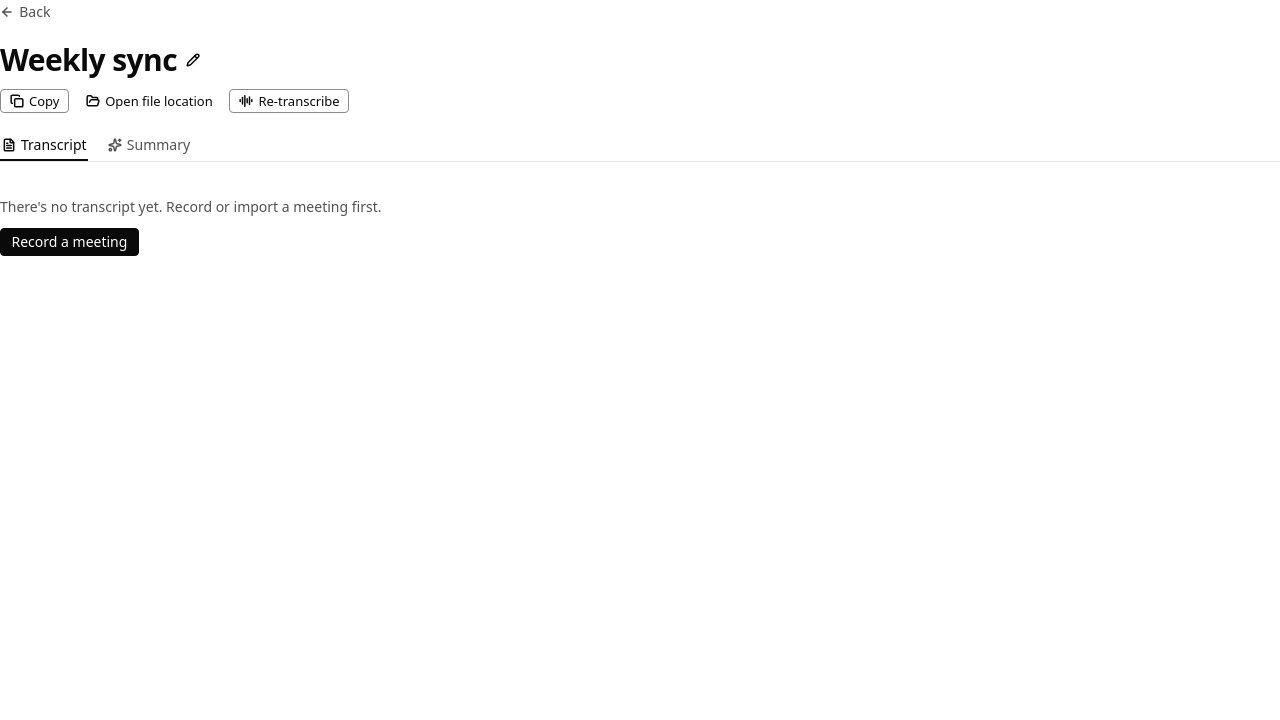
Test: SessionRoute › rename › stays open and says why when a re-transcription blocks the rename
Expected: the heading "Weekly sync" is shown, [0, 42, 177, 78]
Step 1. Click the button with test id "BtnSessionRename" → (193, 60), box [180, 48, 205, 72]
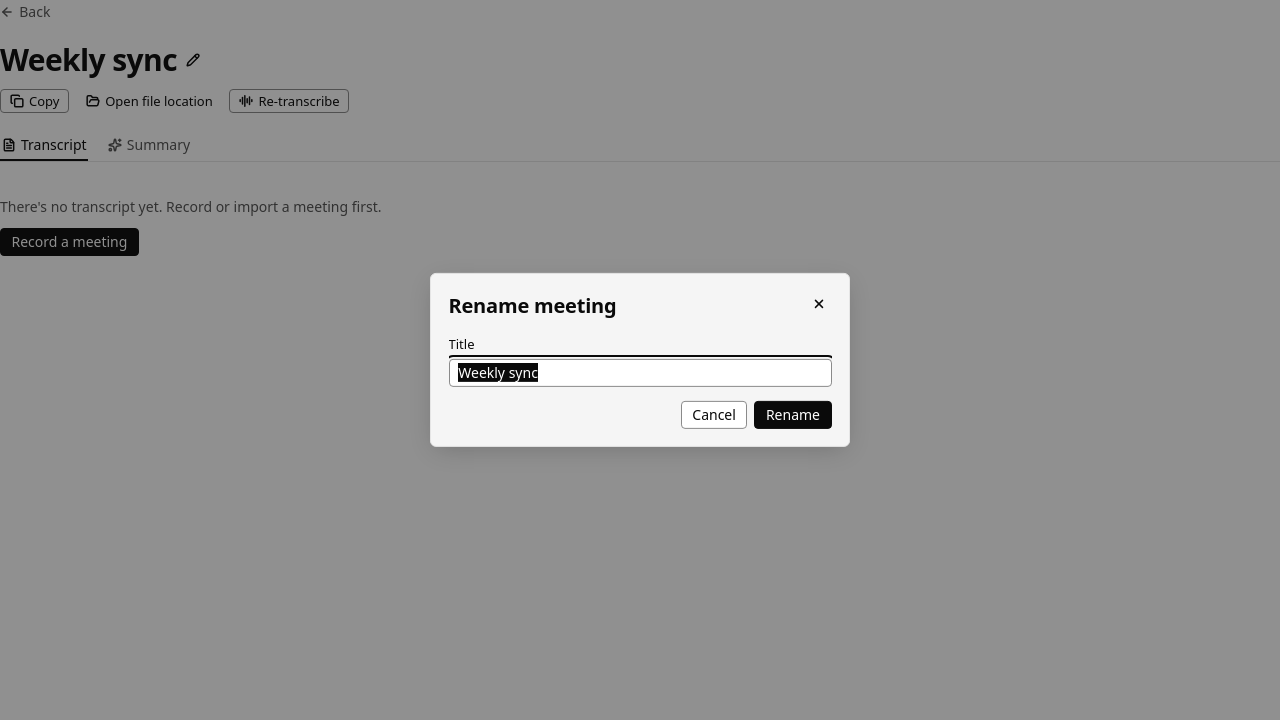
Step 2. Type " x" into the field → (640, 373), box [448, 359, 832, 387]
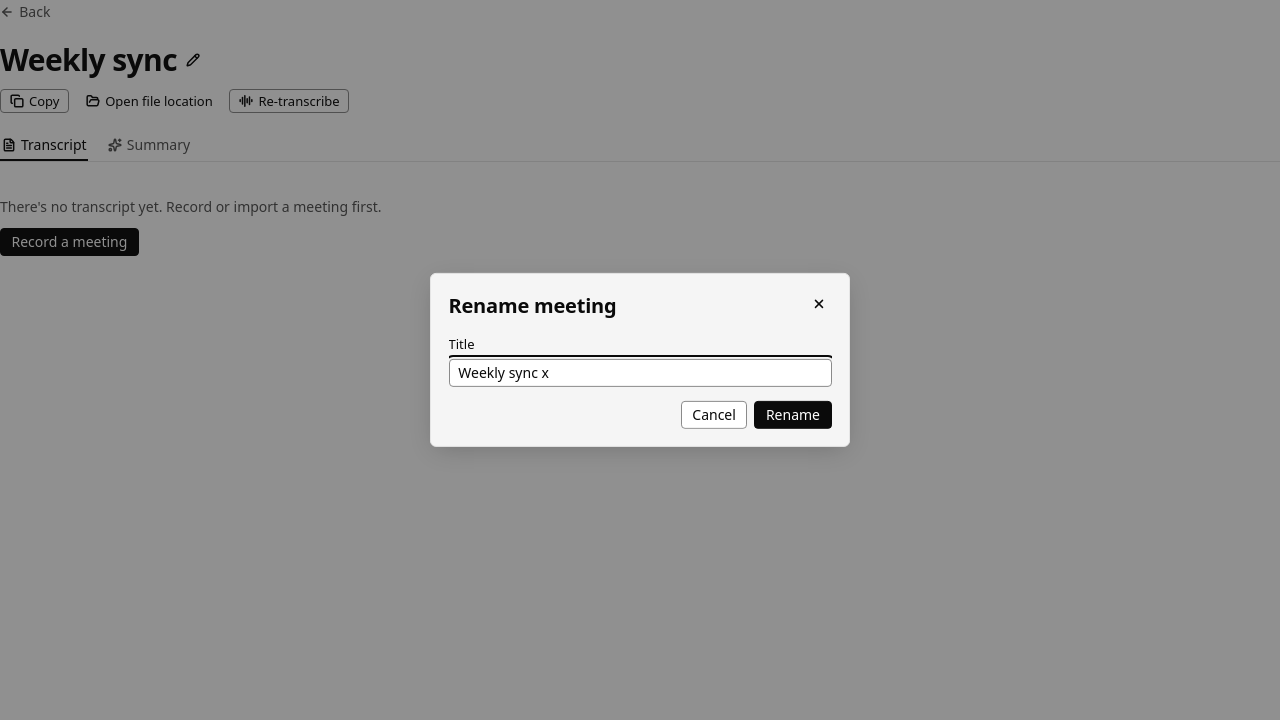
Step 3. Click the button "Rename" → (793, 415), box [754, 401, 832, 429]
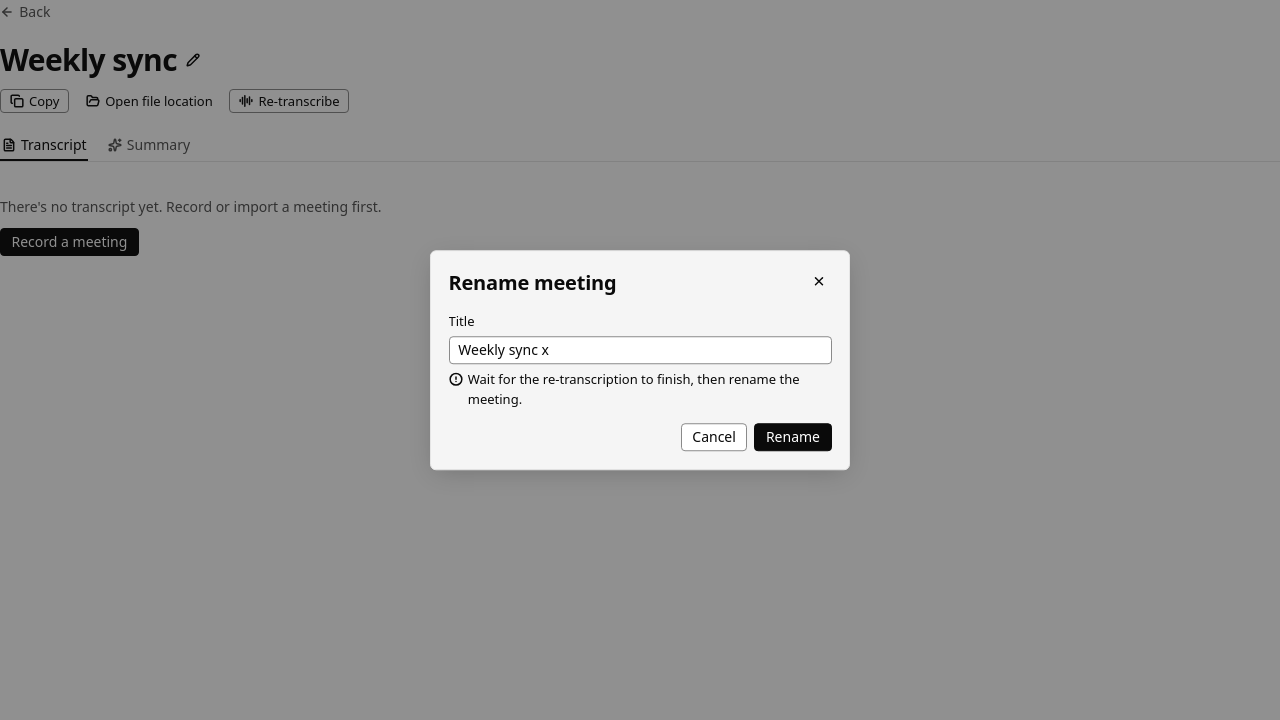
Now the text "re-transcription" is shown, box [468, 370, 800, 408]
